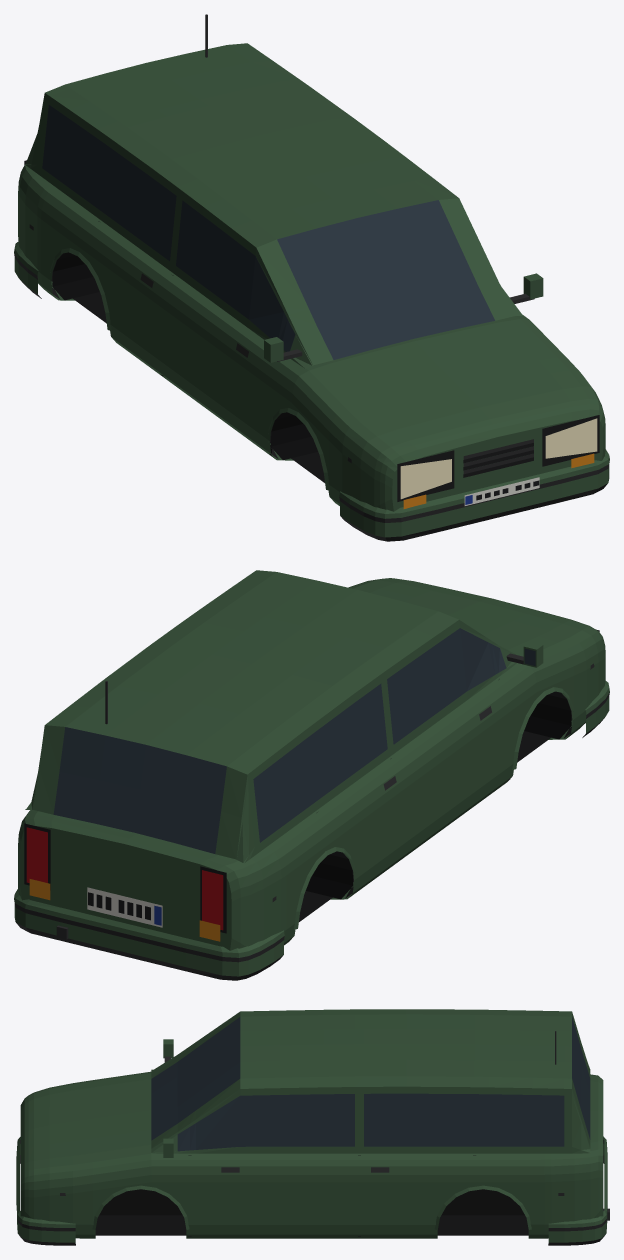
Rendered from marelo-sirio-viajero.glb.
The picture shows the model from 3 angles, top to bottom: view 1: azimuth 30°, elevation 25°; view 2: azimuth 150°, elevation 25°; view 3: azimuth 270°, elevation 25°; orthographic projection. The views are drawn at different scales.
Parts seen in each view (by area): view 1: LOD0, door_FR, door_RR; view 2: LOD0, door_FR, door_RR; view 3: LOD0, door_FL, door_RL.
Part boxes in pixels (x1=…): LOD0: x1=14, y1=14, x2=609, y2=541; door_FR: x1=160, y1=192, x2=288, y2=451; door_RR: x1=85, y1=136, x2=177, y2=372; LOD0: x1=14, y1=570, x2=609, y2=980; door_FR: x1=386, y1=620, x2=512, y2=855; door_RR: x1=309, y1=675, x2=403, y2=892; LOD0: x1=16, y1=1009, x2=609, y2=1245; door_FL: x1=190, y1=1087, x2=357, y2=1234; door_RL: x1=361, y1=1086, x2=474, y2=1234.
Size of what is drawn, in the model's own units: 1.89 by 1.59 by 4.56.
